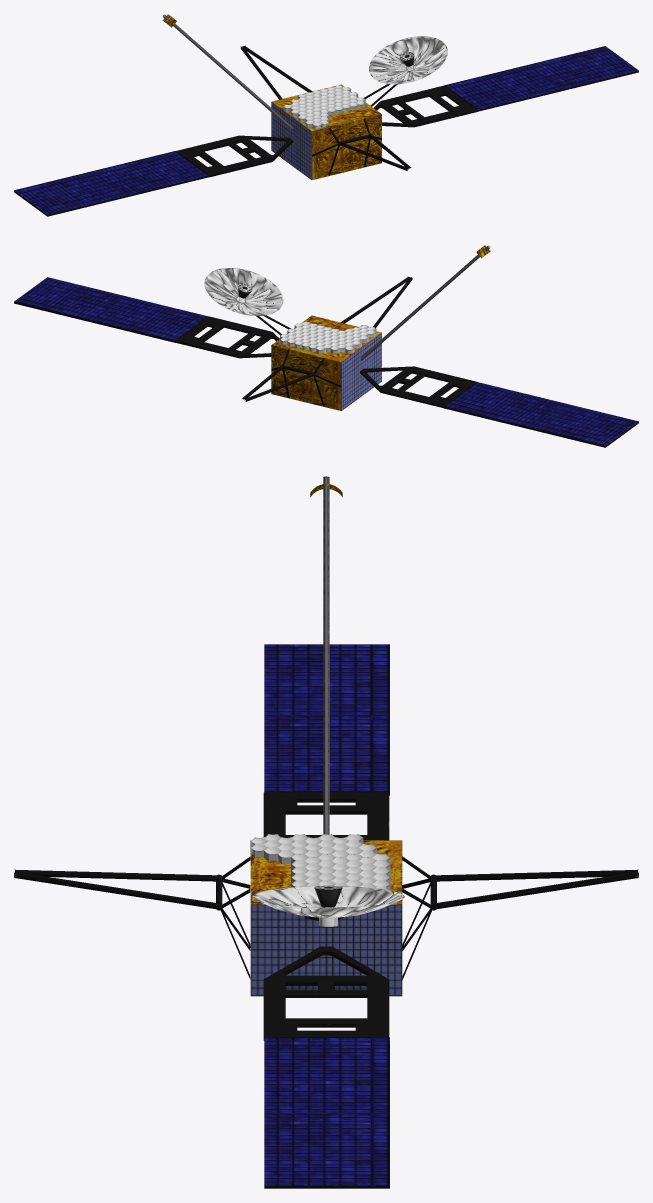
File: tracking-and-data-relay-satellites-tdrs-c.glb
3 renders of one model, top to bottom at view 1: azimuth 30°, elevation 25°; view 2: azimuth 150°, elevation 25°; view 3: azimuth 270°, elevation 25°, orthographic. The views are drawn at different scales.
Parts seen in each view (by area): view 1: tdrs_no_an; view 2: tdrs_no_an; view 3: tdrs_no_an.
Boxes of the visible parts, x1,y1,x2,y2 form: tdrs_no_an: [14, 14, 638, 216]; tdrs_no_an: [14, 245, 638, 447]; tdrs_no_an: [14, 476, 638, 1188].
Bounding box in the file's own units: 40.73 × 11.95 × 19.91.
Materials: 8 (8 with a texture image).
